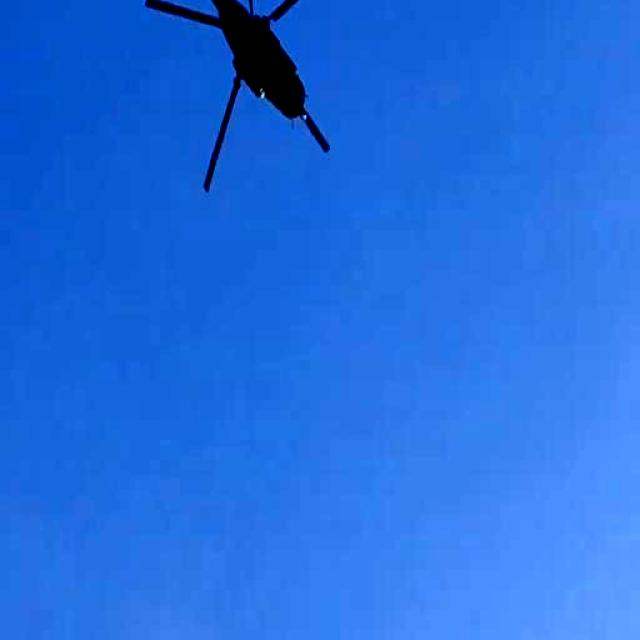drone: (139, 0, 361, 185)
